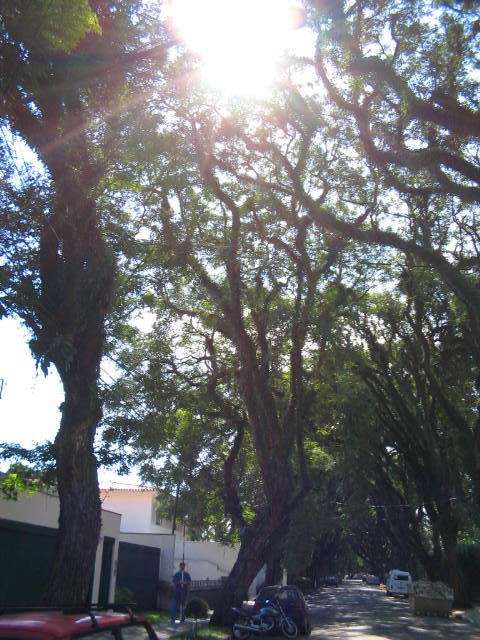stem: (23, 374, 131, 636), (208, 534, 270, 628)
stick: (176, 521, 189, 623)
tree: (159, 2, 386, 626), (1, 1, 162, 640)
